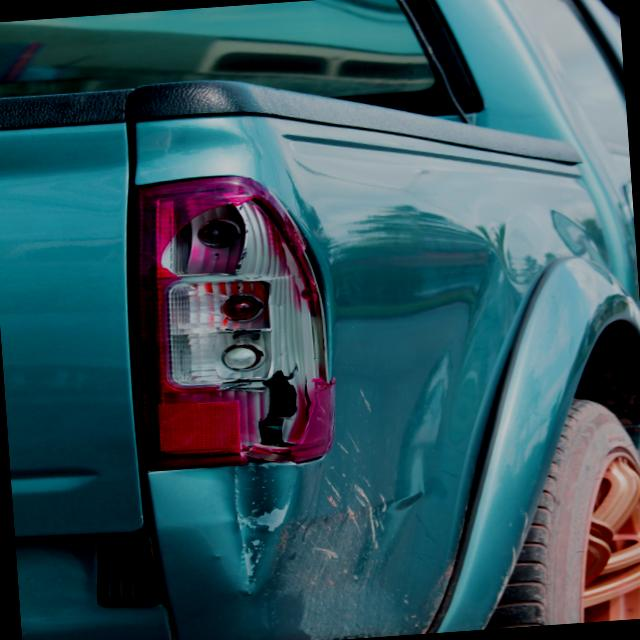Cabossage: (293, 213, 536, 640), (218, 463, 301, 590)
Phare abime: (145, 171, 331, 468)
Rayure: (296, 371, 408, 611)
